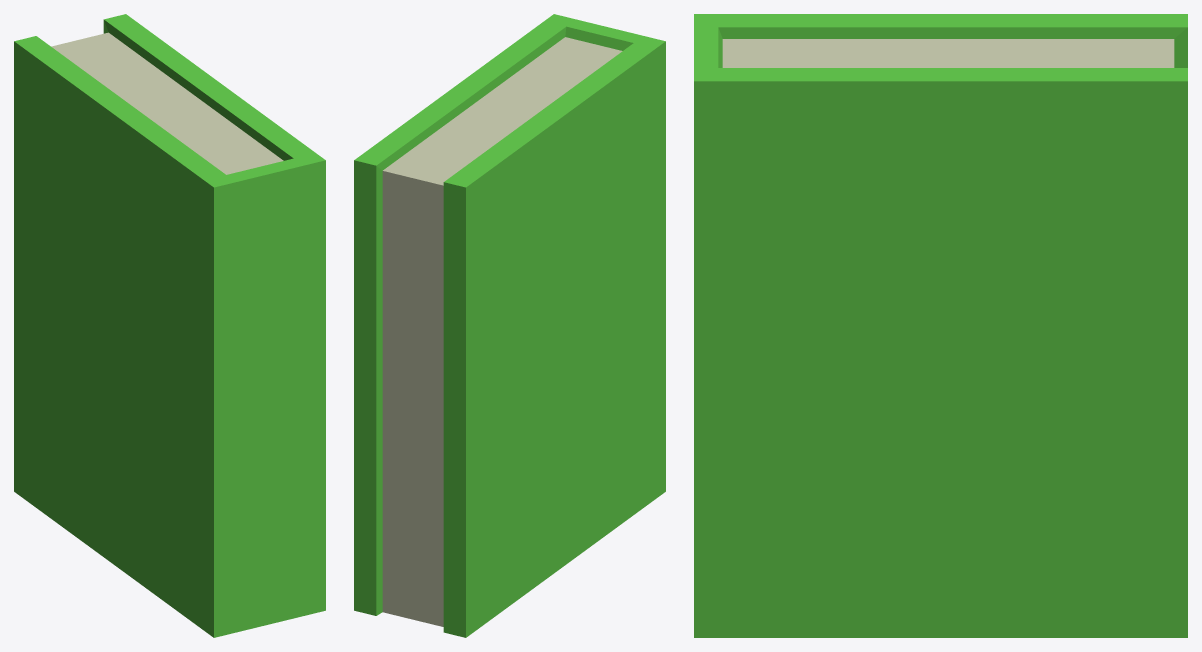
Rendered from book.fbx.
3 views of the same model, side by side, from view 1: azimuth 30°, elevation 25°; view 2: azimuth 150°, elevation 25°; view 3: azimuth 270°, elevation 25° (orthographic). The views are drawn at different scales.
Parts seen in each view (by area): view 1: book2; view 2: book2; view 3: book2.
Part boxes in pixels (<box>): book2: <box>14,14,325,637</box>; book2: <box>354,14,665,637</box>; book2: <box>694,14,1187,637</box>.
Size of the model in its own units: 0.0679 by 0.2611 by 0.21.
